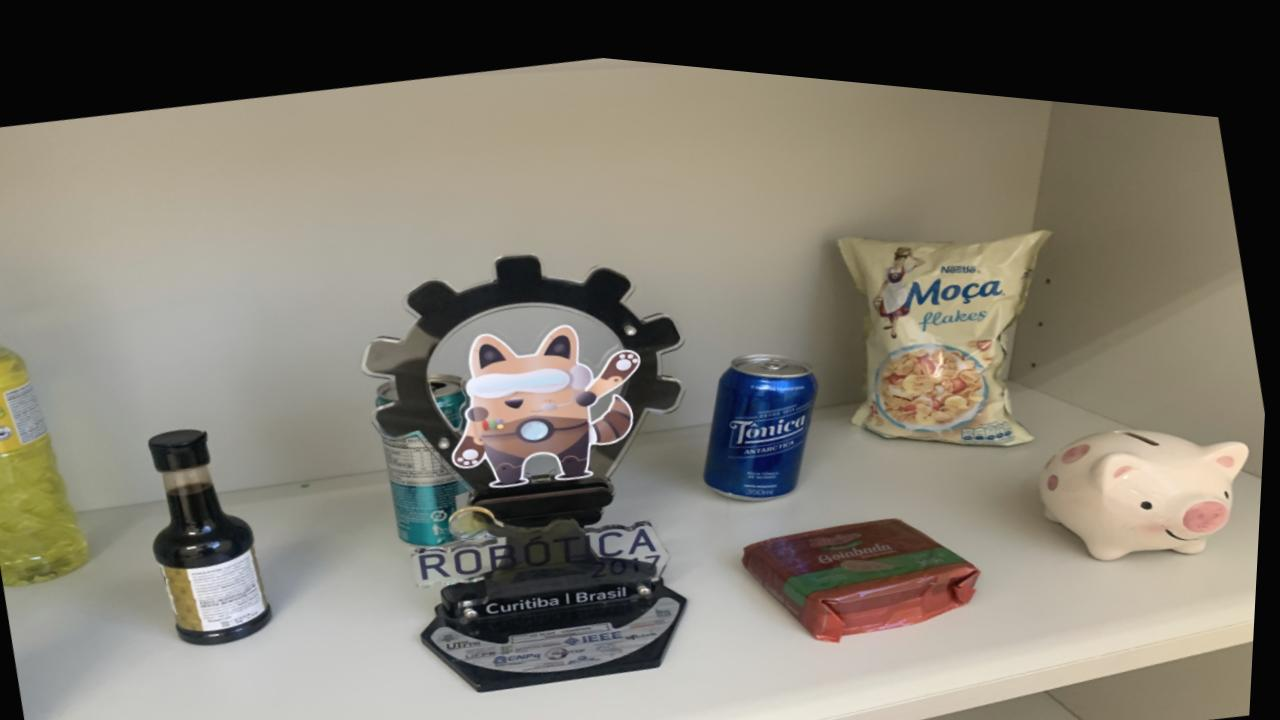Detergent-Cleanup_Items: (0, 343, 94, 585)
English_Sauce-Pantry_Items: (153, 425, 278, 640)
Flakes-Snacks: (839, 209, 1051, 426)
Guava-Snacks: (747, 499, 985, 625)
Pig_Safe-Miscellaneous: (1043, 407, 1252, 537)
Tea-Drinks: (386, 423, 474, 537), (432, 364, 471, 416), (378, 373, 400, 398)
Tonic-Drinks: (707, 338, 821, 485)
Trophy-Miscellaneous: (366, 245, 693, 682)
